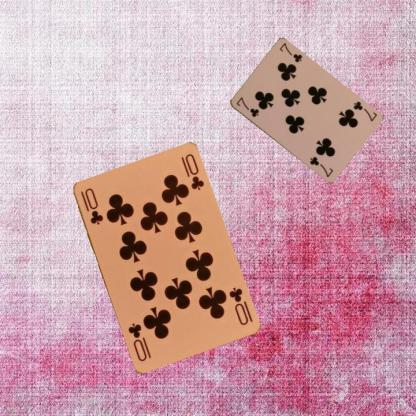10c: (78, 185, 104, 226), (226, 284, 250, 326)
7c: (233, 94, 260, 119), (351, 99, 378, 122)
